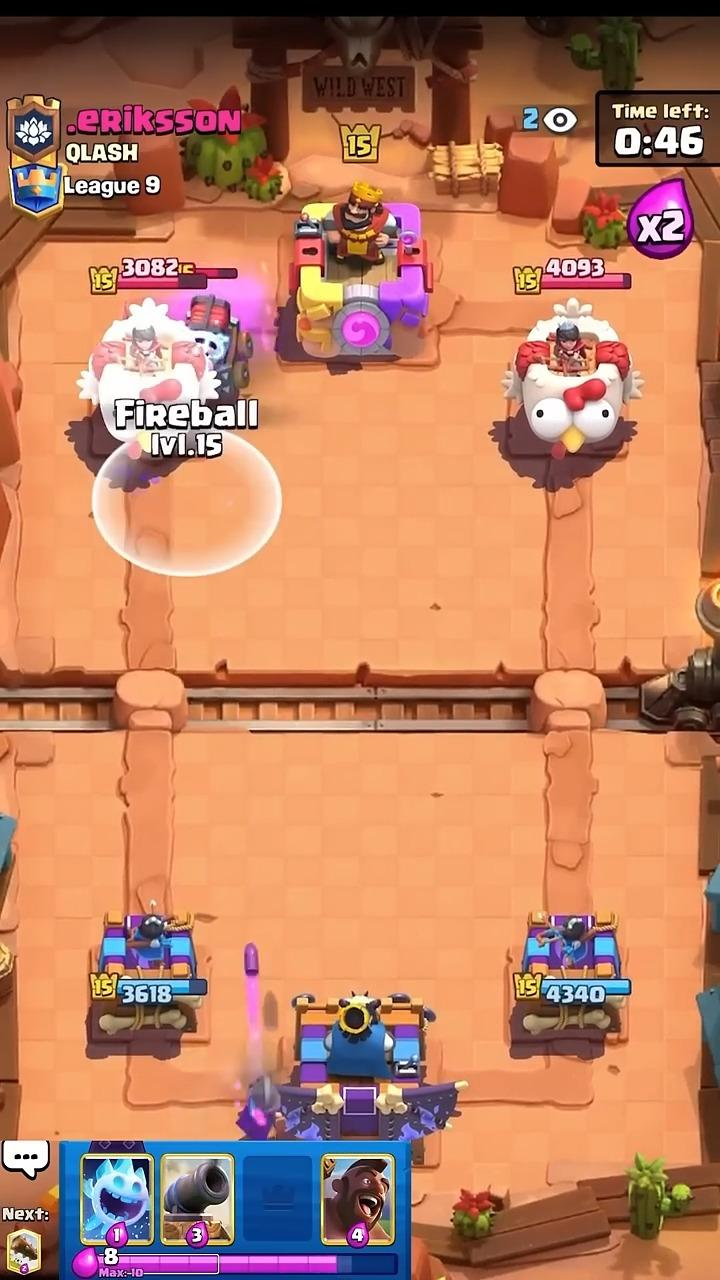musketeer: (237, 1075, 278, 1138)
sparky: (186, 294, 253, 403)
